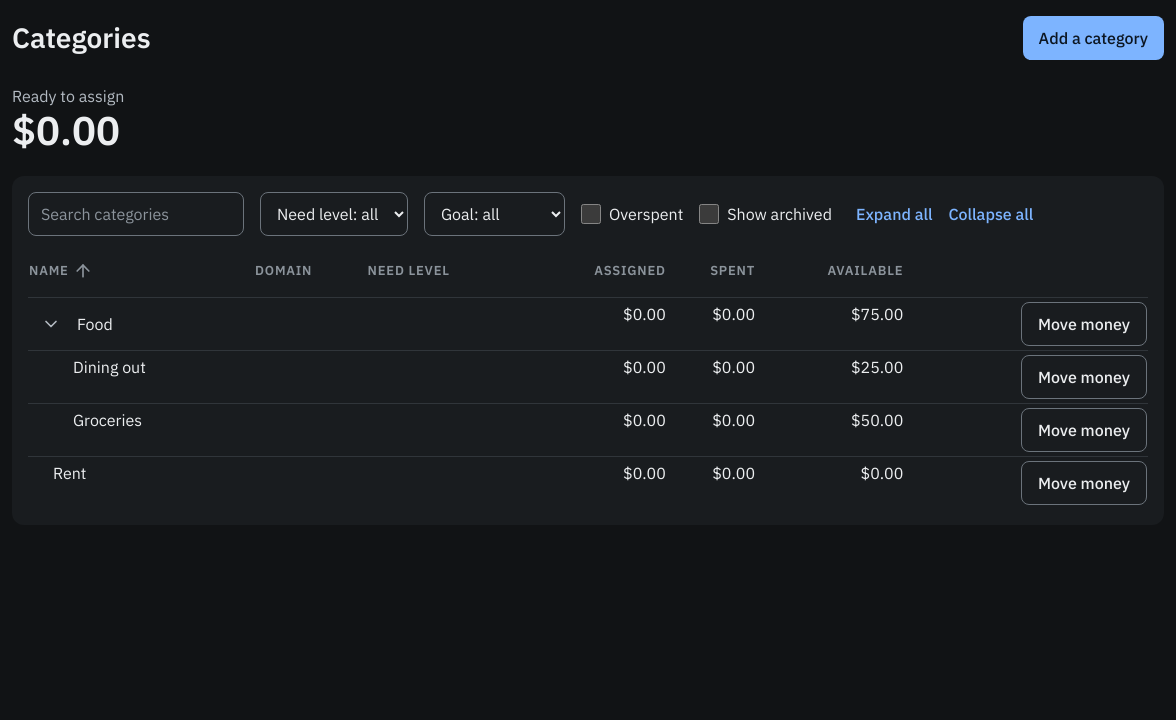
Test case: rows and groups (#286) › collapses and expands a group, remembers it on the device, and has Expand all / Collapse all
Expected: the text "Rent" is shown, [53,463,86,483]
What coordinates should you click on to do the following:
click the button named "Collapse Food"
I would click on:
 (51, 324)
Its box is [29,302,73,346].
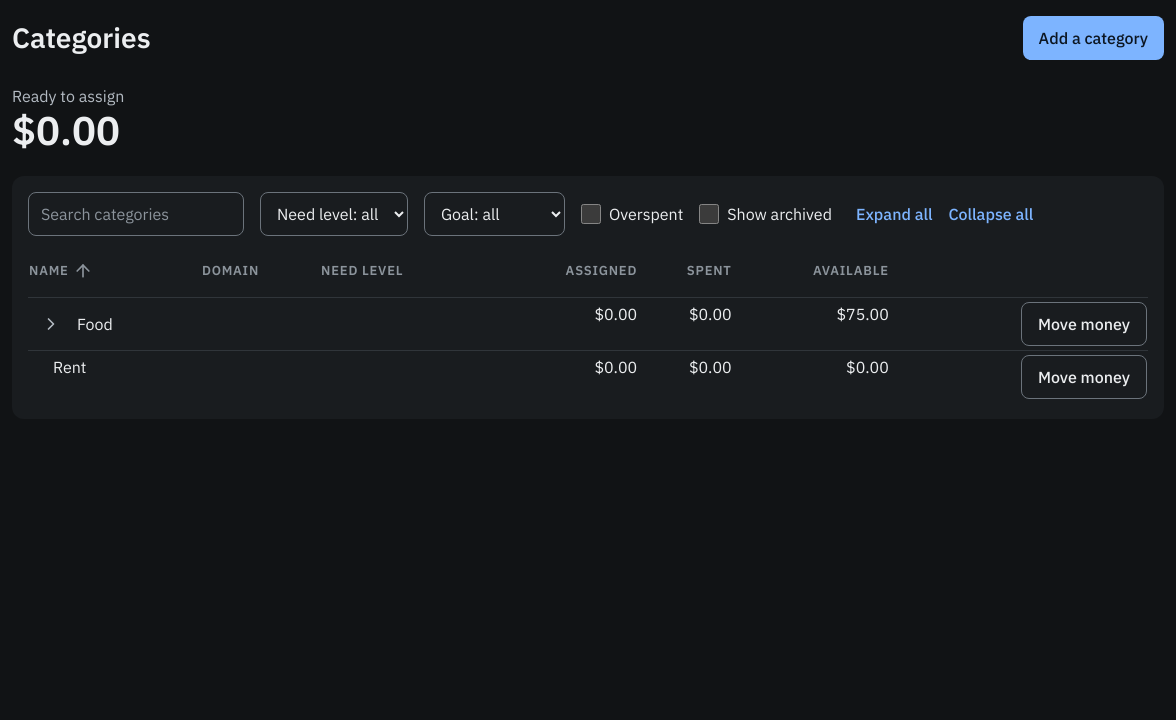
Now the text "Groceries" is gone
What coordinates should you click on to do the following:
click the button "Expand all"
I would click on:
 (894, 214)
Its box is [848,192,940,236].
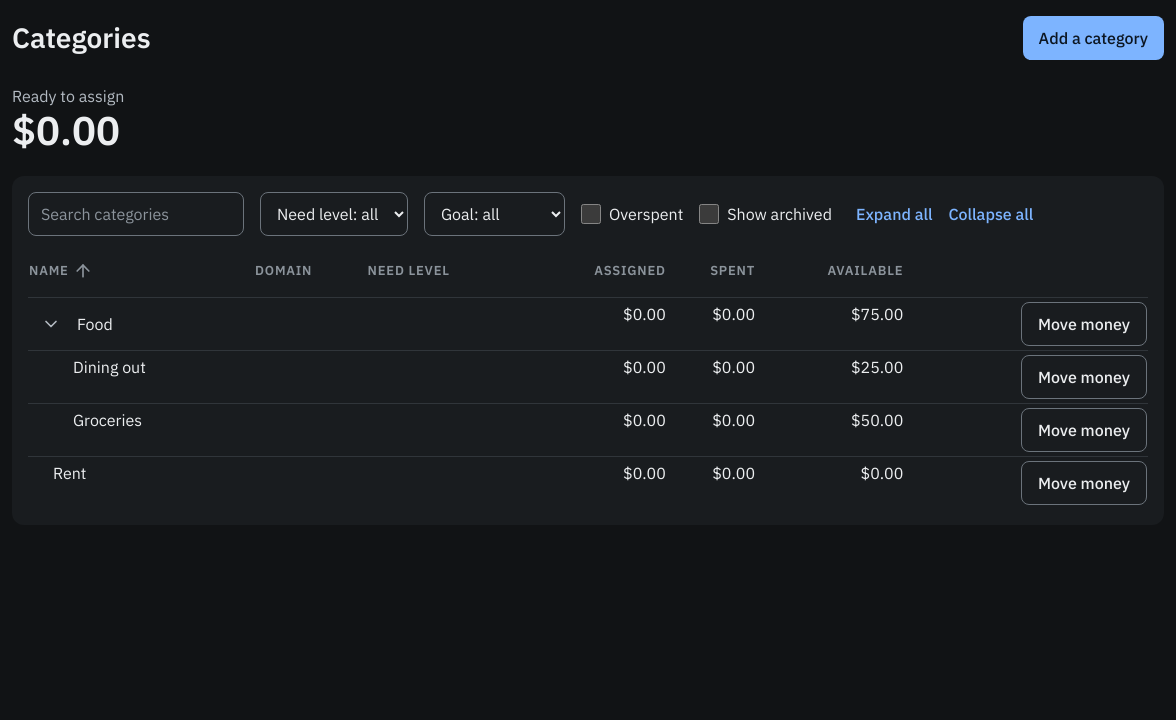
Now the text "Groceries" is shown, box [73,410,142,430]
What coordinates should you click on to do the following:
click the button "Collapse all"
I would click on:
 (991, 214)
Its box is [940,192,1041,236].
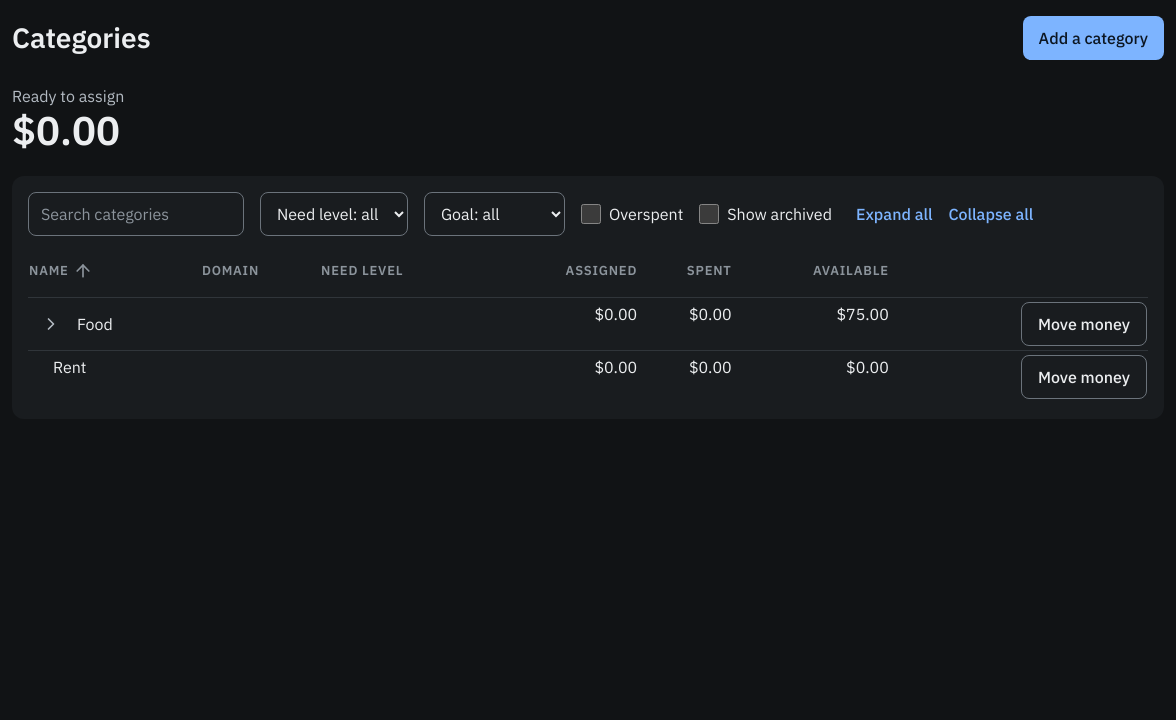
Now the text "Dining out" is gone
